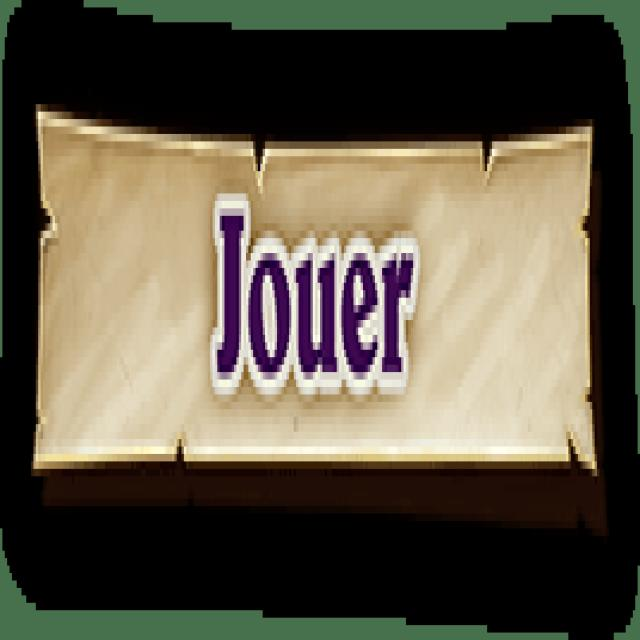words: (208, 186, 420, 394)
